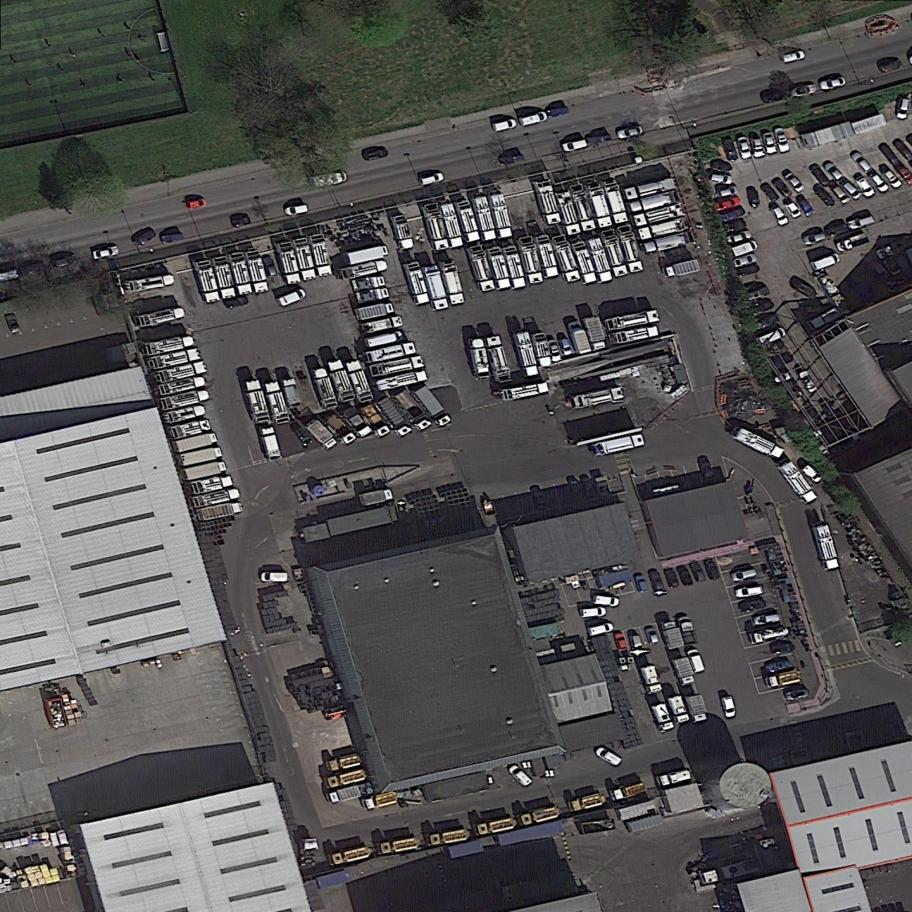large-vehicle: (776, 456, 820, 509), (730, 423, 787, 462), (392, 385, 435, 434), (411, 382, 454, 431), (374, 393, 416, 441), (566, 181, 599, 235), (551, 231, 584, 285), (465, 243, 498, 295), (368, 353, 427, 382), (342, 355, 375, 406), (151, 359, 209, 388), (144, 345, 202, 374), (589, 432, 647, 461), (631, 200, 687, 230), (420, 200, 451, 254), (602, 307, 661, 335), (637, 215, 693, 244), (516, 233, 546, 287), (532, 177, 563, 229), (566, 384, 625, 411), (600, 227, 630, 280), (623, 175, 679, 203), (616, 222, 645, 276), (585, 179, 615, 231), (511, 327, 541, 379), (326, 355, 357, 405), (812, 520, 841, 573), (192, 256, 222, 307), (320, 410, 359, 449), (310, 364, 341, 413), (139, 332, 195, 359), (358, 400, 394, 442), (586, 233, 615, 285), (437, 256, 466, 308), (642, 229, 697, 256), (374, 368, 429, 395), (363, 340, 418, 367), (337, 256, 390, 284), (602, 175, 631, 226), (422, 262, 451, 313), (470, 193, 499, 244), (243, 245, 272, 296), (569, 238, 599, 287), (190, 486, 244, 513), (173, 444, 225, 472), (485, 333, 513, 385), (554, 189, 583, 239), (303, 415, 340, 454), (339, 403, 375, 443), (158, 386, 211, 413), (402, 259, 431, 308), (275, 239, 304, 288), (133, 304, 187, 330), (606, 323, 662, 348), (626, 190, 682, 215), (453, 197, 482, 245), (244, 377, 272, 426), (178, 460, 230, 486), (488, 191, 515, 241), (439, 200, 466, 250), (325, 780, 375, 807), (170, 430, 220, 457), (485, 243, 513, 291), (291, 235, 319, 283), (211, 254, 239, 302), (264, 378, 292, 426), (307, 230, 334, 279), (227, 249, 254, 298), (501, 243, 528, 291), (323, 766, 371, 793), (123, 272, 177, 296), (186, 473, 235, 499), (193, 500, 246, 524), (498, 380, 551, 404), (534, 233, 561, 280), (516, 803, 563, 830), (342, 243, 390, 269), (161, 402, 209, 428), (471, 814, 518, 840), (423, 826, 471, 851), (165, 417, 213, 442), (156, 375, 208, 398), (582, 313, 610, 355), (566, 316, 594, 358), (326, 843, 372, 868), (359, 313, 405, 338), (658, 615, 687, 654), (372, 835, 421, 858), (566, 790, 609, 816), (468, 335, 492, 381), (325, 750, 365, 777), (353, 300, 396, 325), (362, 328, 406, 352), (390, 212, 416, 252), (361, 789, 401, 815), (666, 691, 693, 729), (608, 780, 649, 805), (747, 623, 791, 646), (259, 423, 284, 463), (661, 257, 704, 280), (650, 701, 677, 736), (530, 331, 554, 370), (357, 486, 395, 510), (765, 669, 805, 691), (686, 692, 711, 727), (672, 654, 697, 689), (654, 767, 693, 789), (280, 375, 304, 410), (640, 662, 663, 697), (354, 285, 392, 306), (836, 232, 871, 254), (351, 273, 387, 294)
small-vehicle: (310, 170, 348, 190), (276, 287, 308, 309), (809, 251, 841, 273), (813, 184, 839, 211), (507, 763, 534, 789), (594, 744, 623, 768), (758, 325, 788, 348), (878, 142, 903, 169), (817, 395, 840, 424), (790, 279, 819, 302), (746, 296, 775, 317), (751, 311, 781, 331), (850, 150, 874, 175), (846, 213, 877, 232), (578, 474, 599, 502), (686, 648, 707, 676), (518, 108, 547, 128), (771, 177, 795, 201), (809, 163, 832, 188), (784, 169, 807, 194), (132, 227, 158, 249), (855, 174, 877, 199), (869, 170, 891, 195), (798, 368, 819, 394), (770, 203, 791, 229), (882, 255, 904, 279), (737, 597, 766, 615), (742, 286, 771, 304), (818, 74, 847, 92), (715, 194, 742, 213), (732, 239, 759, 258), (823, 160, 845, 183), (773, 126, 791, 154), (734, 584, 765, 600), (16, 261, 45, 278), (726, 228, 753, 246), (883, 167, 904, 190), (764, 659, 794, 675), (790, 82, 818, 99), (92, 243, 120, 260), (546, 339, 564, 365), (697, 456, 715, 482), (732, 252, 758, 270), (842, 179, 863, 201), (530, 485, 547, 512), (3, 311, 22, 335), (721, 138, 739, 163), (720, 206, 746, 223), (736, 135, 753, 161), (760, 183, 780, 205), (832, 184, 852, 206), (801, 464, 823, 484), (797, 196, 816, 219), (51, 253, 78, 269), (799, 302, 826, 318), (561, 138, 588, 154), (568, 478, 585, 503), (802, 230, 827, 247), (362, 147, 390, 162), (223, 294, 249, 310), (877, 58, 903, 74), (703, 557, 720, 581), (648, 568, 665, 592), (761, 131, 778, 155), (720, 695, 737, 719), (749, 134, 766, 158), (752, 613, 781, 627), (587, 622, 614, 637), (782, 49, 807, 65), (616, 125, 644, 139), (261, 255, 278, 278), (826, 222, 849, 239), (284, 203, 310, 218), (690, 560, 706, 584), (783, 689, 810, 703), (260, 570, 289, 583), (629, 633, 645, 656), (677, 564, 693, 587), (586, 133, 612, 147), (731, 569, 757, 583), (546, 104, 570, 119), (723, 219, 747, 234), (420, 172, 444, 187), (492, 118, 516, 133), (558, 337, 575, 358), (580, 606, 607, 619), (593, 595, 620, 608), (736, 264, 761, 278), (613, 630, 628, 653), (716, 184, 739, 199), (785, 200, 803, 219), (771, 643, 797, 656), (761, 90, 785, 104), (897, 97, 911, 120), (645, 626, 660, 647), (499, 154, 525, 166), (665, 566, 679, 588), (633, 573, 648, 593), (230, 215, 251, 229), (710, 173, 734, 185), (711, 161, 733, 174), (161, 233, 184, 245), (748, 189, 760, 209), (187, 198, 206, 210), (773, 372, 791, 383)
